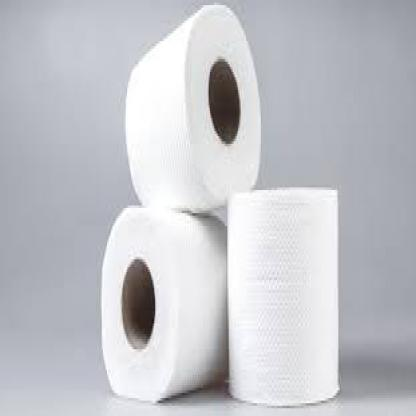tissue: (124, 7, 260, 205), (102, 211, 224, 404)
